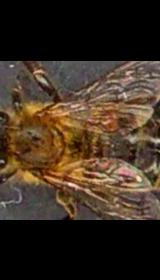varroa_mite: (100, 107, 126, 136)
